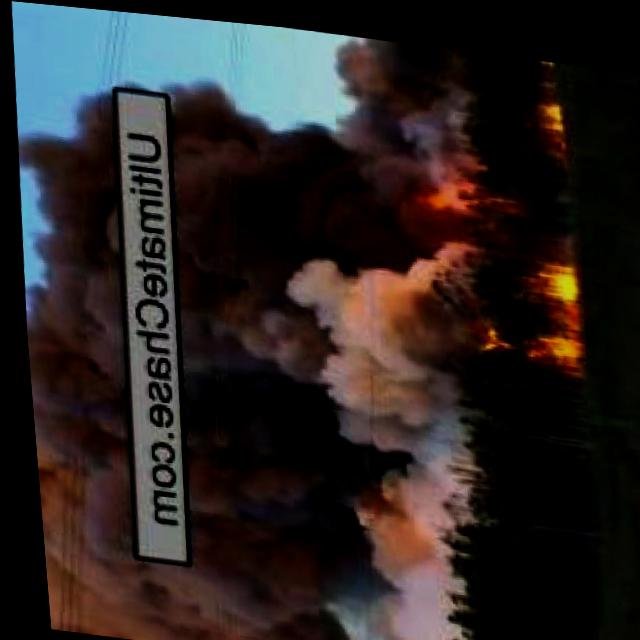Fire: (466, 242, 585, 361), (383, 164, 488, 217), (535, 83, 569, 126)
Smoke: (141, 67, 480, 640), (5, 75, 144, 640)
